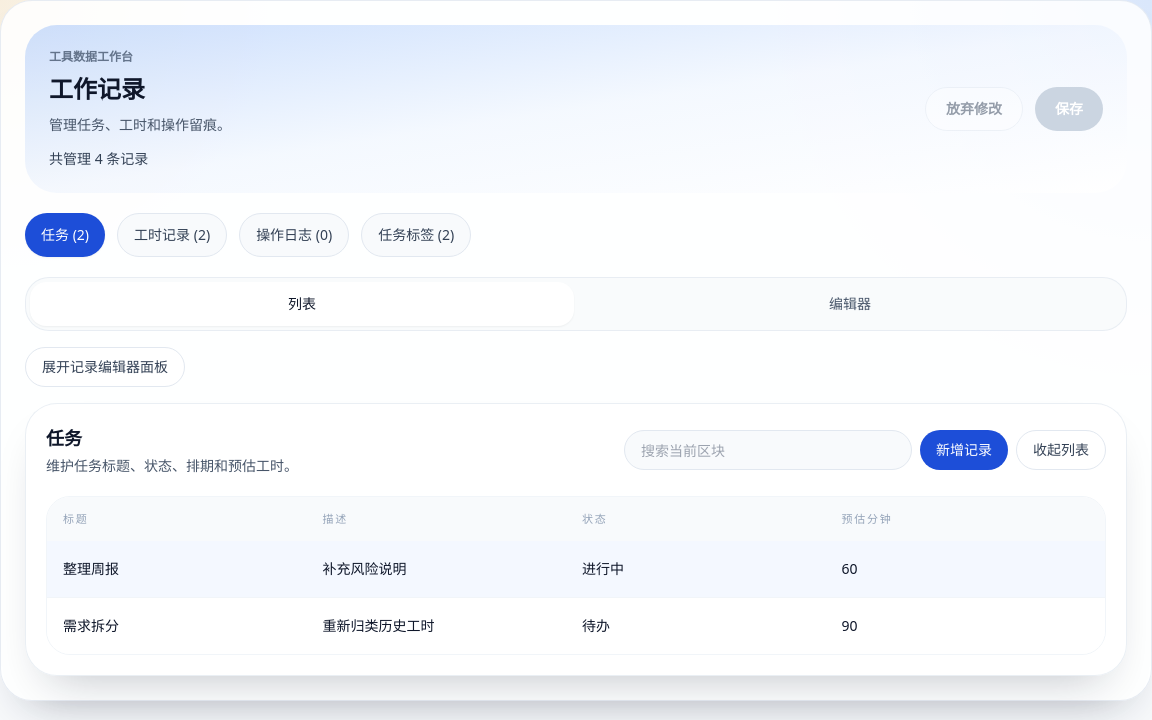
ToolWorkspace › 桌面端支持分别收起和展开列表面板与记录编辑器面板
The image size is (1152, 720).
Earlier steps of the test are not shown.
Expected: the button "展开记录编辑器面板" is shown, [25,347,185,387]
Click the button with aria-label "收起任务面板": (1061, 450) [1016,430,1106,470]
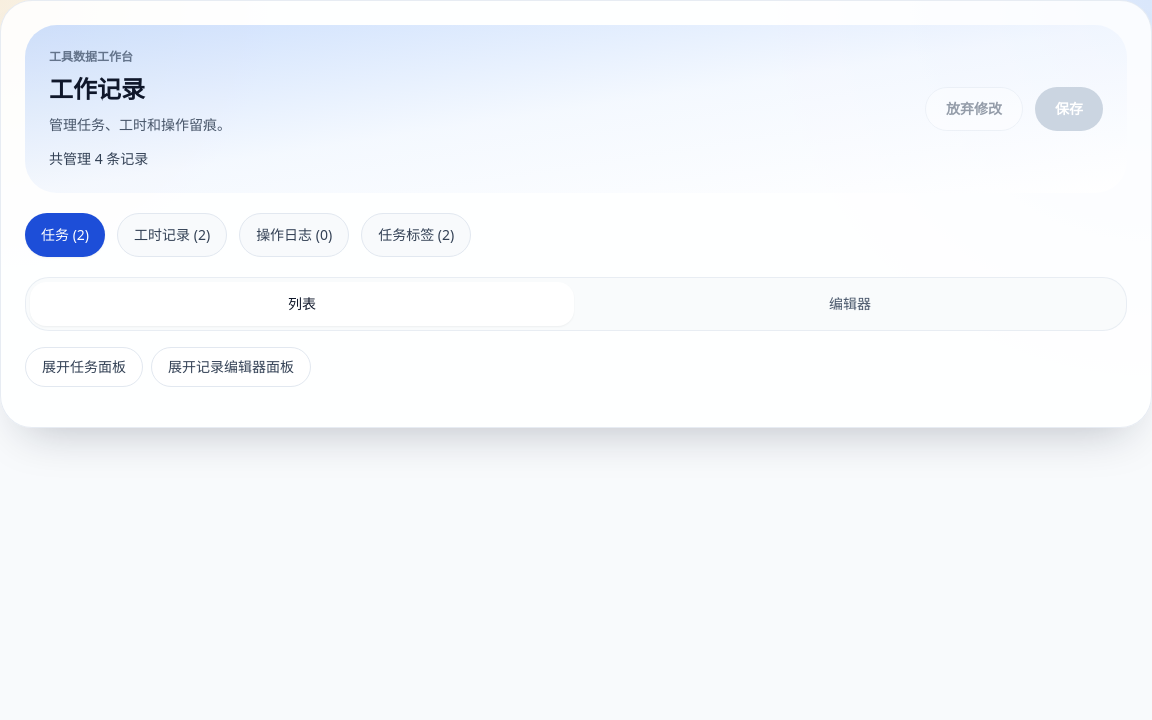
Now the button "展开任务面板" is shown, box [25,347,143,387]
Click the button "展开记录编辑器面板": (231, 367) [151,347,311,387]
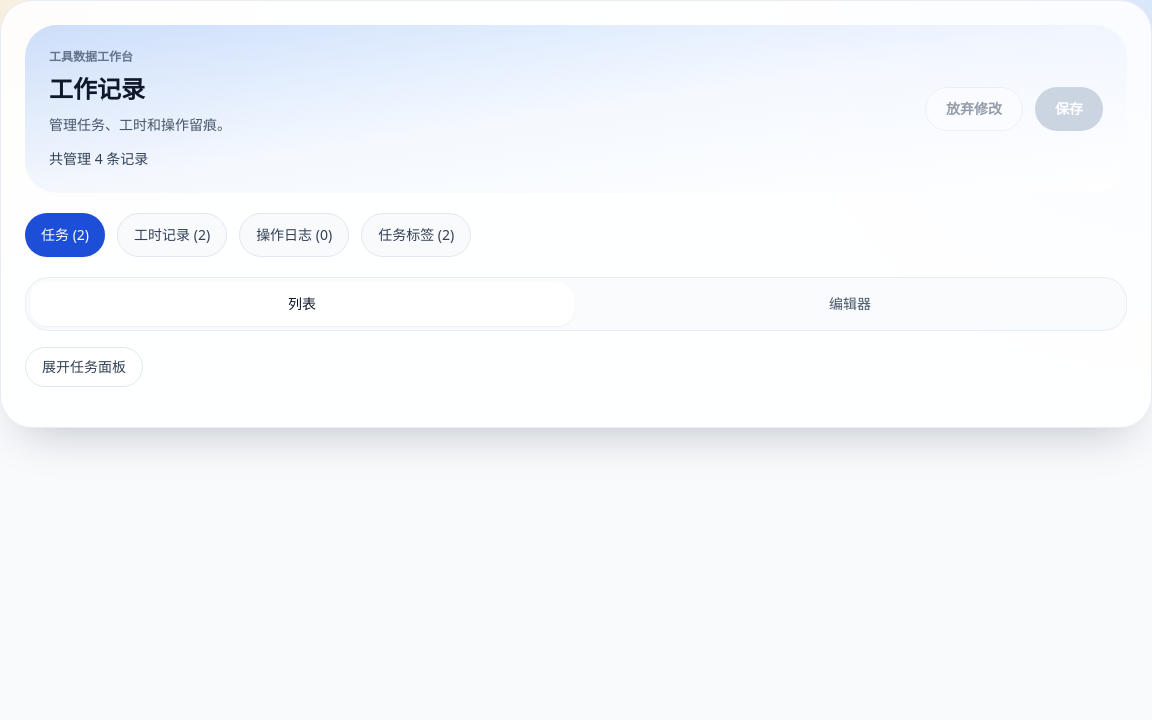
Click the button "展开任务面板": (84, 367) [25,347,143,387]
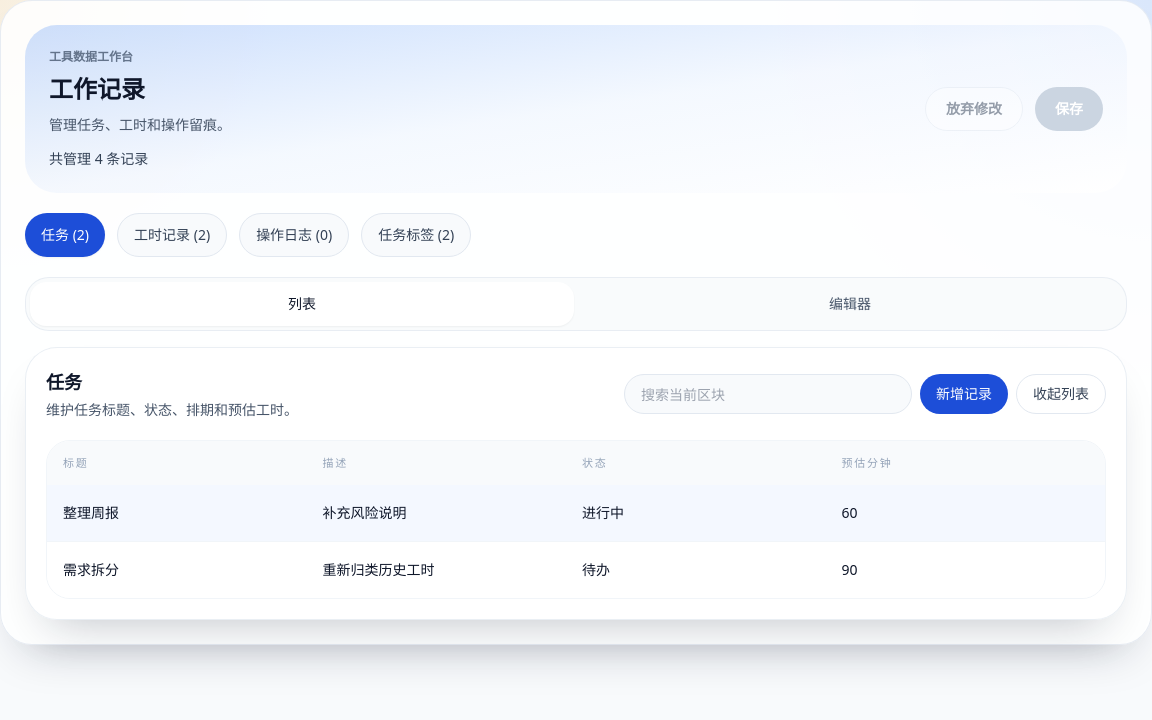
Now the heading "任务" is shown, box [46,370,82,394]
